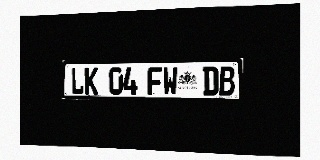0: (109, 67, 123, 95)
4: (123, 67, 137, 95)
B: (219, 66, 235, 96)
D: (203, 67, 218, 95)
F: (148, 67, 162, 95)
K: (84, 68, 98, 94)
L: (71, 68, 84, 94)
W: (163, 67, 178, 95)
